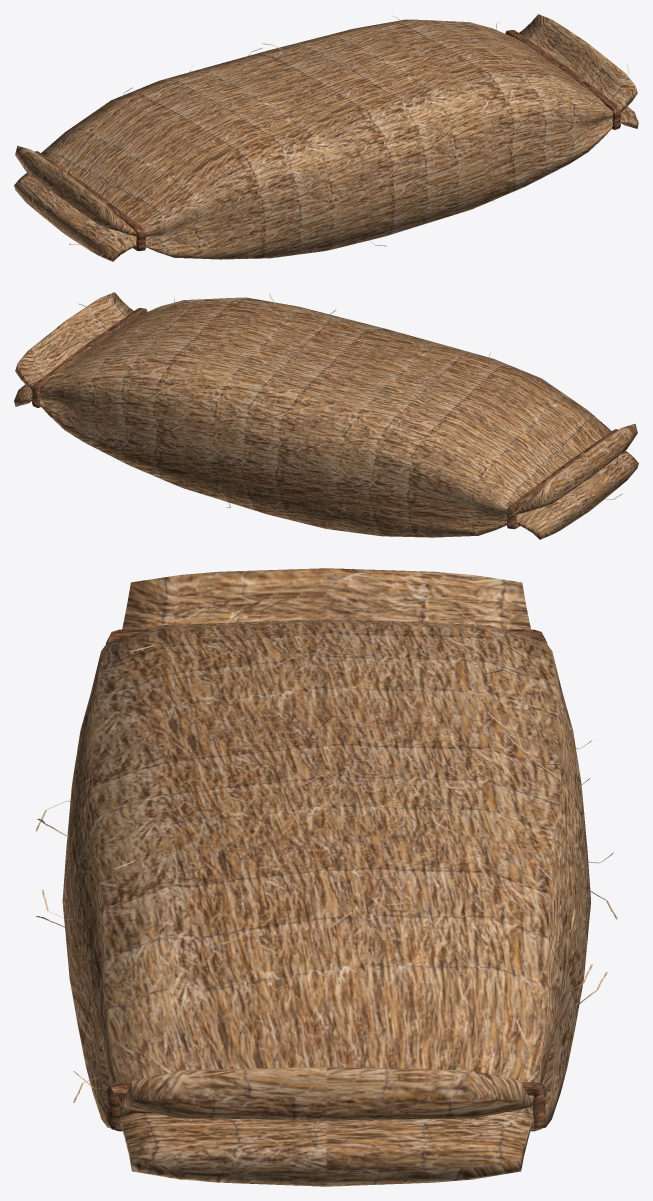
Rendered from ricebag.glb.
3 views of the same model, one above another, from view 1: azimuth 30°, elevation 25°; view 2: azimuth 150°, elevation 25°; view 3: azimuth 270°, elevation 25° (orthographic). The views are drawn at different scales.
Visible parts, largest first — view 1: SM_Mado_Ricebag; view 2: SM_Mado_Ricebag; view 3: SM_Mado_Ricebag.
Boxes of the visible parts, x1,y1,x2,y2 form: SM_Mado_Ricebag: [14, 14, 638, 261]; SM_Mado_Ricebag: [14, 292, 638, 539]; SM_Mado_Ricebag: [35, 568, 617, 1186].
Bounding box in the file's own units: 0.8736 × 0.2396 × 0.4095.
1 material, 1 textured.
